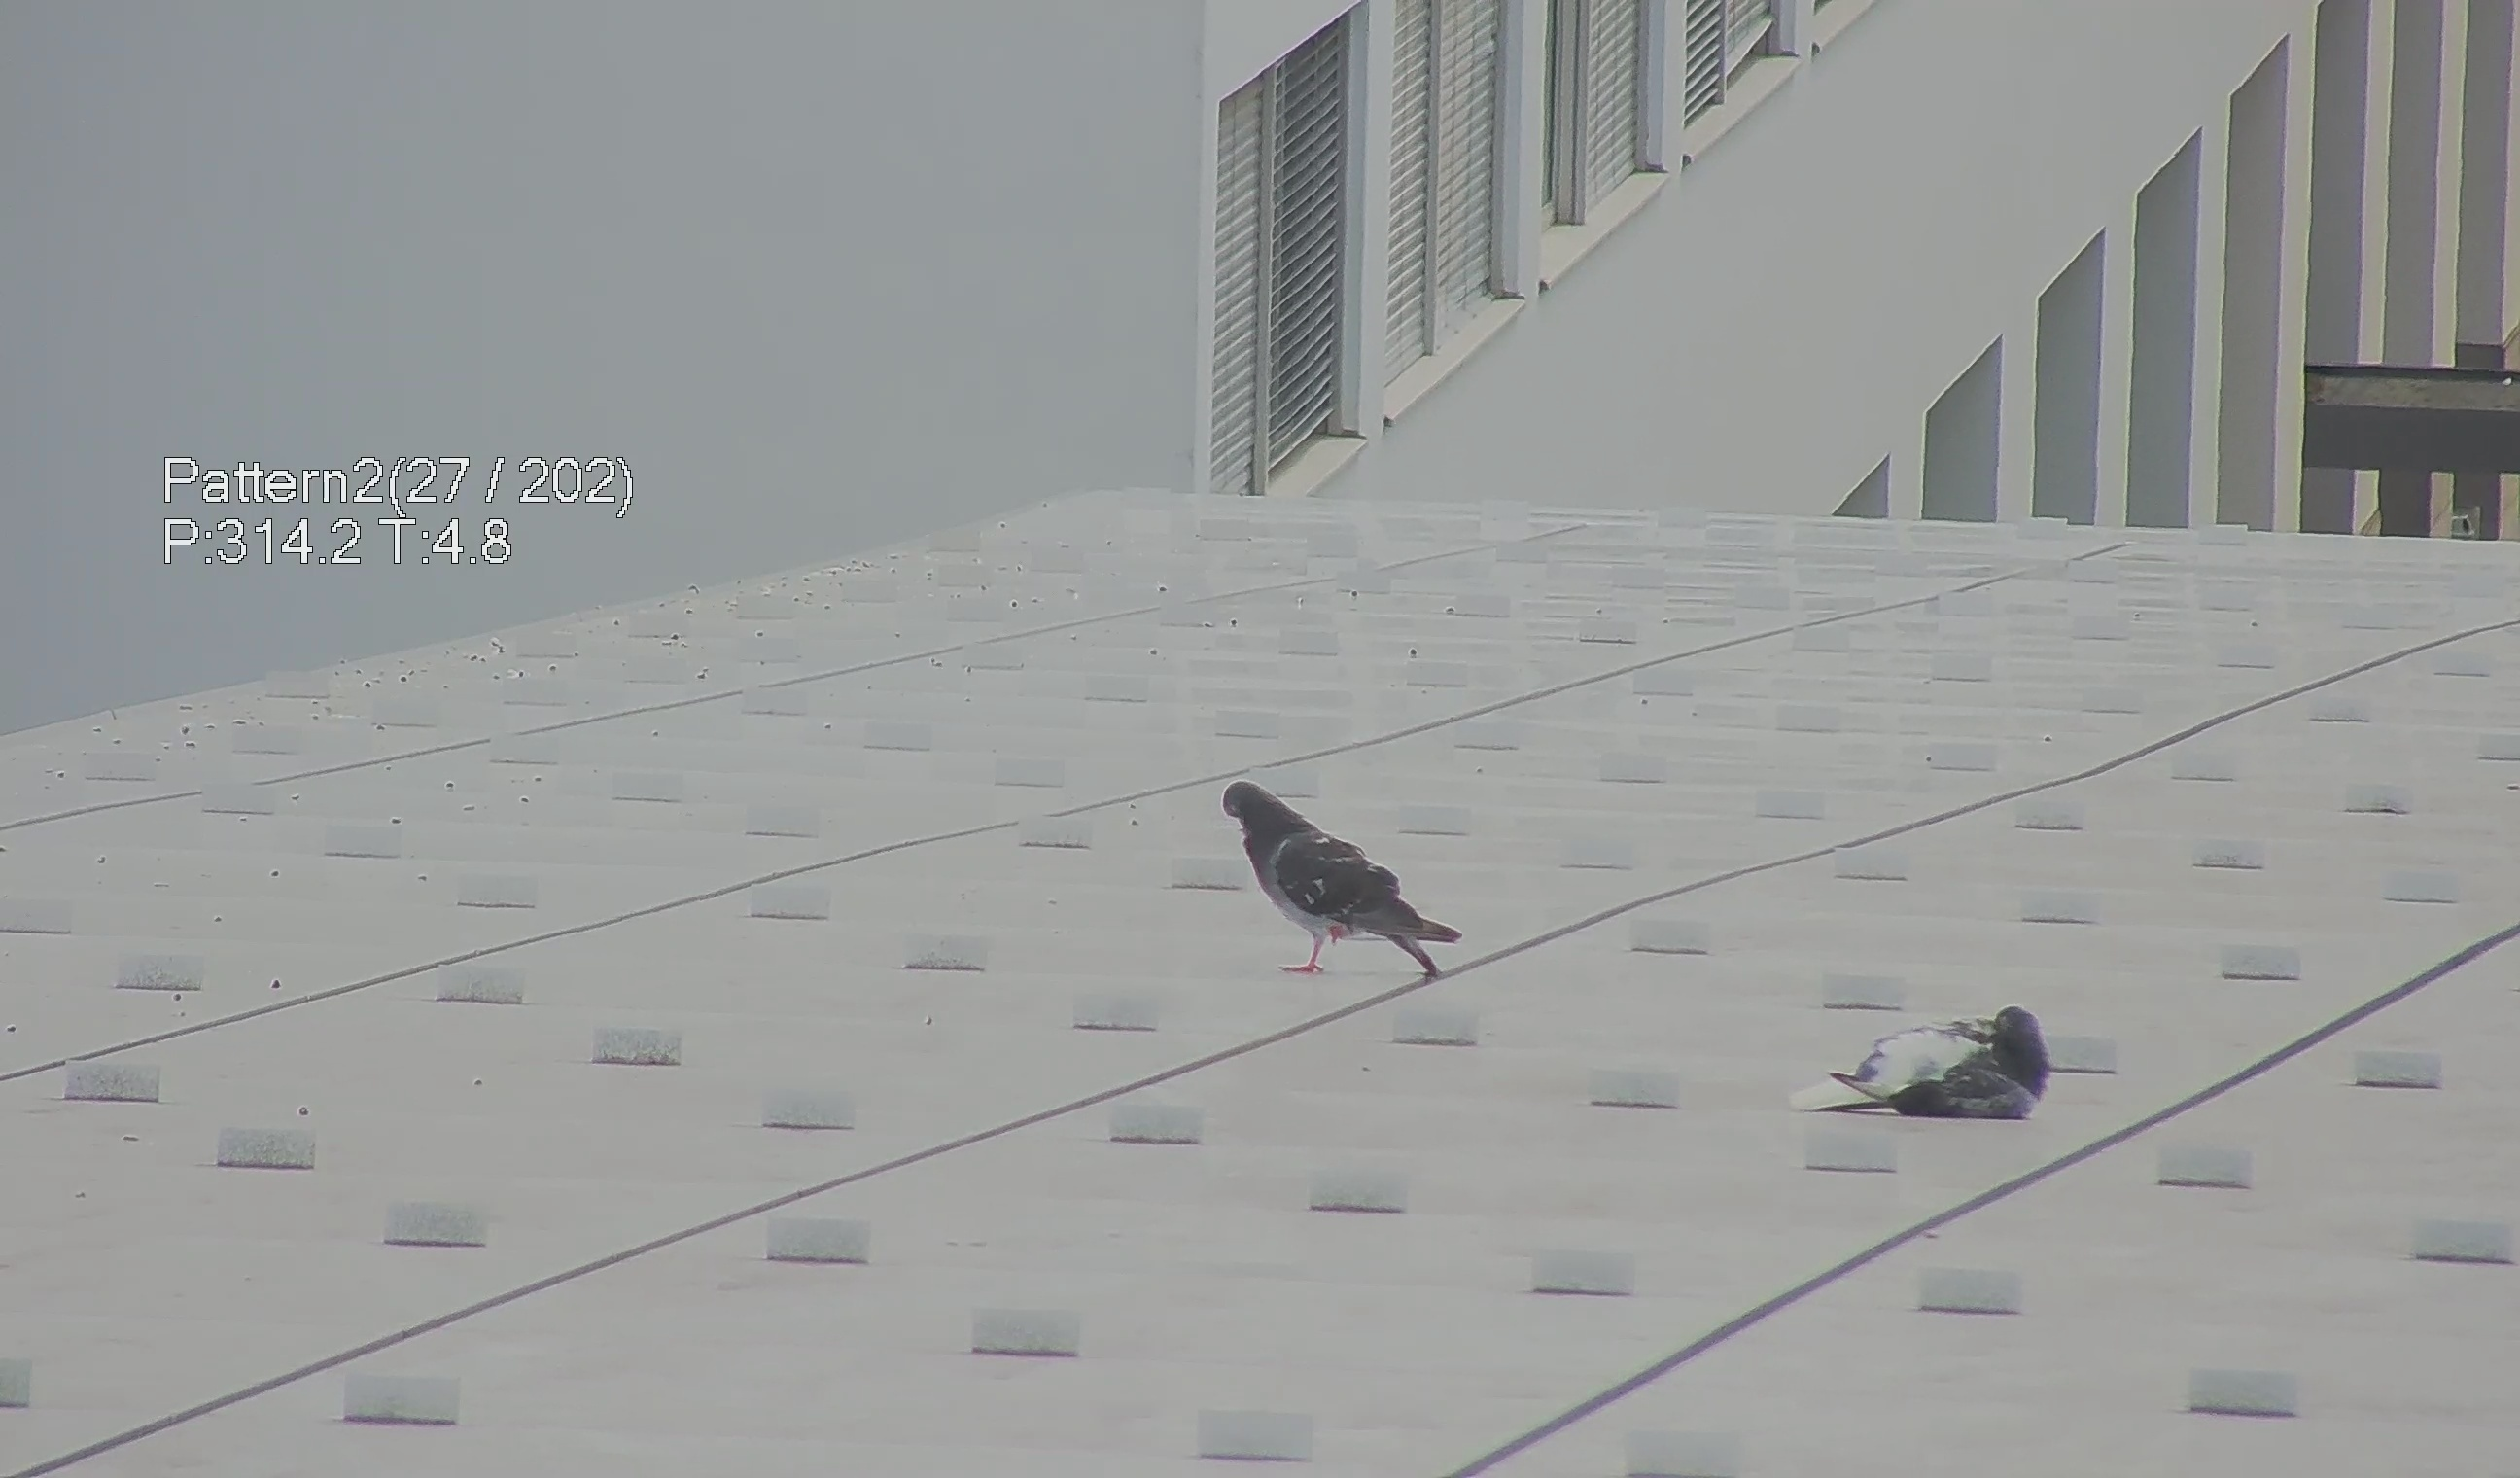Pigeon: (1203, 776, 1468, 994), (1769, 992, 2094, 1133)
